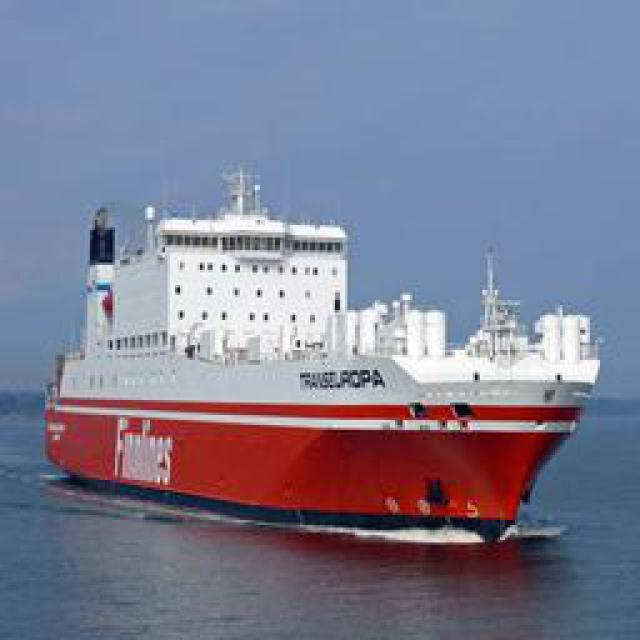Ship: (44, 149, 599, 544)
